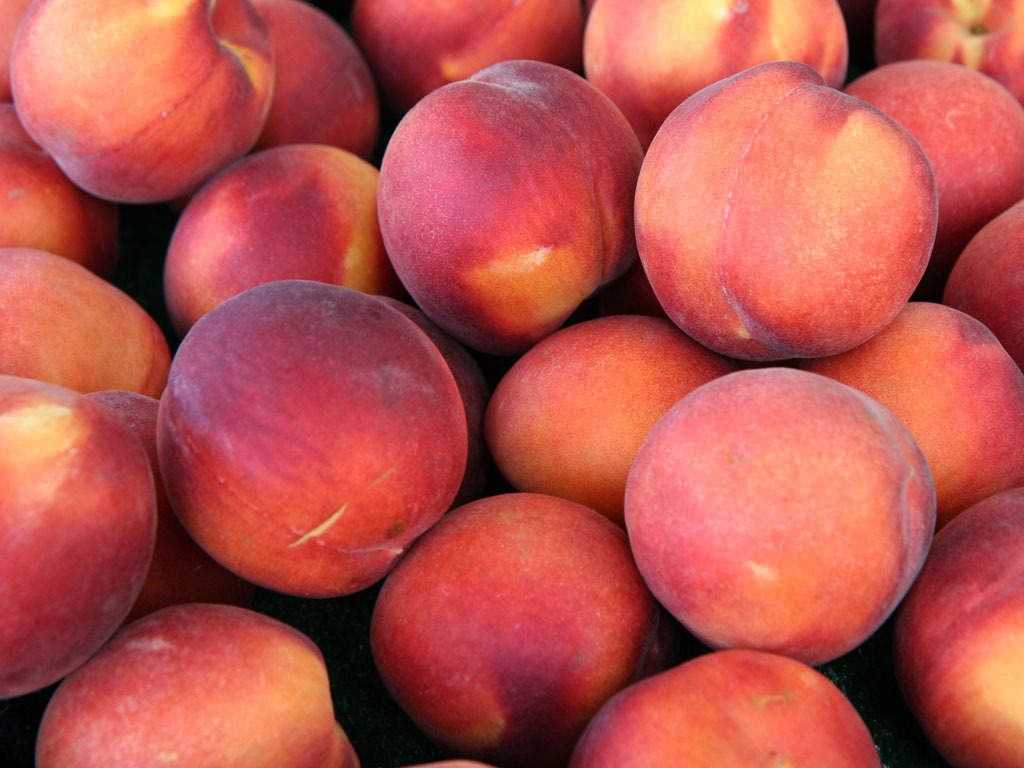Apple: (1, 0, 1022, 767), (622, 364, 936, 664)
